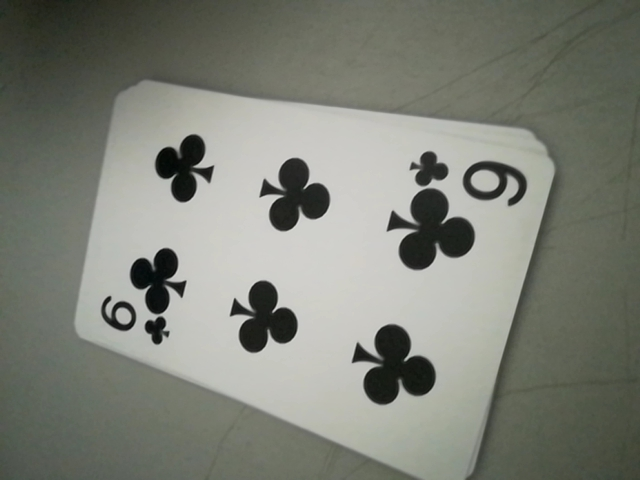mh 6: (405, 146, 535, 202), (95, 296, 174, 351)
